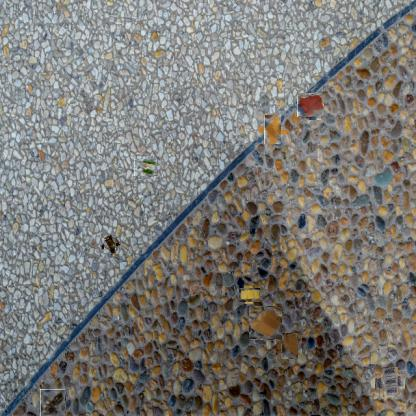dirty: (248, 307, 282, 340), (39, 389, 66, 416), (378, 370, 402, 394), (278, 336, 300, 358), (135, 157, 156, 178), (240, 286, 258, 304), (102, 236, 118, 252)
liquid: (298, 94, 323, 119), (261, 118, 285, 141)
